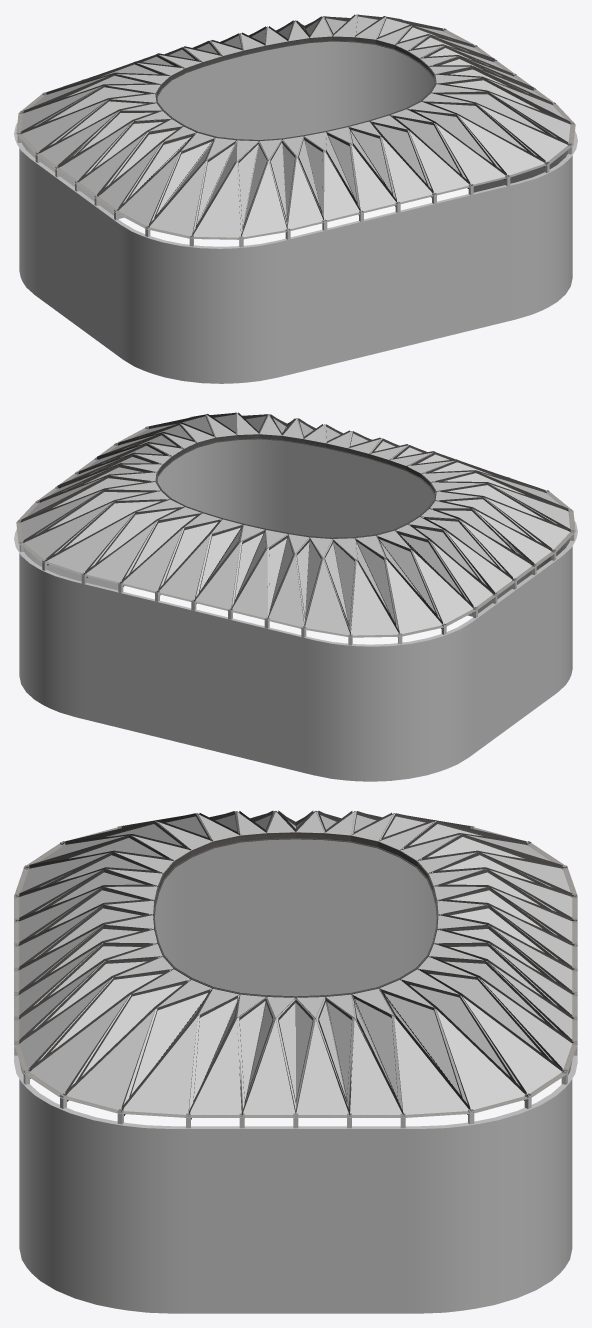
Rendered from Cubierta.FBX.
3 views of the same model, one above another, from view 1: azimuth 30°, elevation 25°; view 2: azimuth 150°, elevation 25°; view 3: azimuth 270°, elevation 25° (orthographic). The views are drawn at different scales.
Visible parts, largest first — view 1: ESTADIO_cierre, ESTADIO_cubierta, ESTADIO_viguetasCubierta, ESTADIO_brochalCubierta, ESTADIO_vigasCubierta; view 2: ESTADIO_cierre, ESTADIO_cubierta, ESTADIO_viguetasCubierta, ESTADIO_brochalCubierta, ESTADIO_vigasCubierta; view 3: ESTADIO_cierre, ESTADIO_cubierta, ESTADIO_viguetasCubierta, ESTADIO_brochalCubierta, ESTADIO_vigasCubierta.
Boxes of the visible parts, x1,y1,x2,y2 form: ESTADIO_cierre: (14, 18, 577, 383); ESTADIO_cubierta: (16, 15, 575, 239); ESTADIO_viguetasCubierta: (21, 14, 570, 236); ESTADIO_brochalCubierta: (155, 36, 436, 141); ESTADIO_vigasCubierta: (18, 28, 571, 236); ESTADIO_cierre: (14, 416, 577, 781); ESTADIO_cubierta: (16, 413, 575, 637); ESTADIO_viguetasCubierta: (21, 412, 570, 634); ESTADIO_brochalCubierta: (155, 434, 436, 538); ESTADIO_vigasCubierta: (20, 426, 570, 637); ESTADIO_cierre: (14, 825, 577, 1313); ESTADIO_cubierta: (14, 811, 577, 1117); ESTADIO_viguetasCubierta: (19, 810, 572, 1115); ESTADIO_brochalCubierta: (153, 832, 438, 997); ESTADIO_vigasCubierta: (15, 826, 577, 1119).
Bounding box in the file's own units: 228 × 91.84 × 184.
